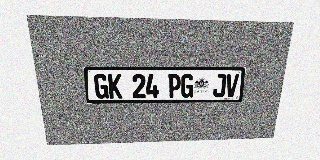2: (132, 74, 145, 98)
4: (146, 74, 159, 98)
G: (93, 74, 109, 99), (180, 74, 194, 98)
J: (212, 74, 227, 97)
K: (108, 74, 122, 98)
P: (168, 74, 181, 98)
V: (225, 74, 239, 97)
